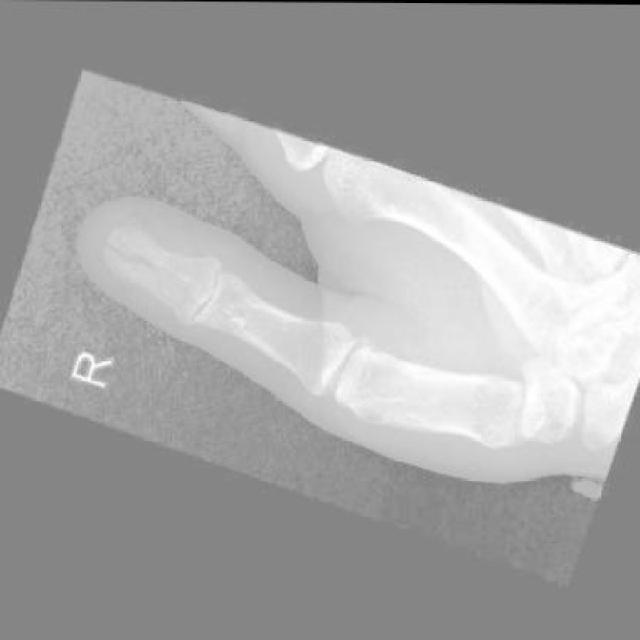Fracture: (92, 221, 168, 296)
